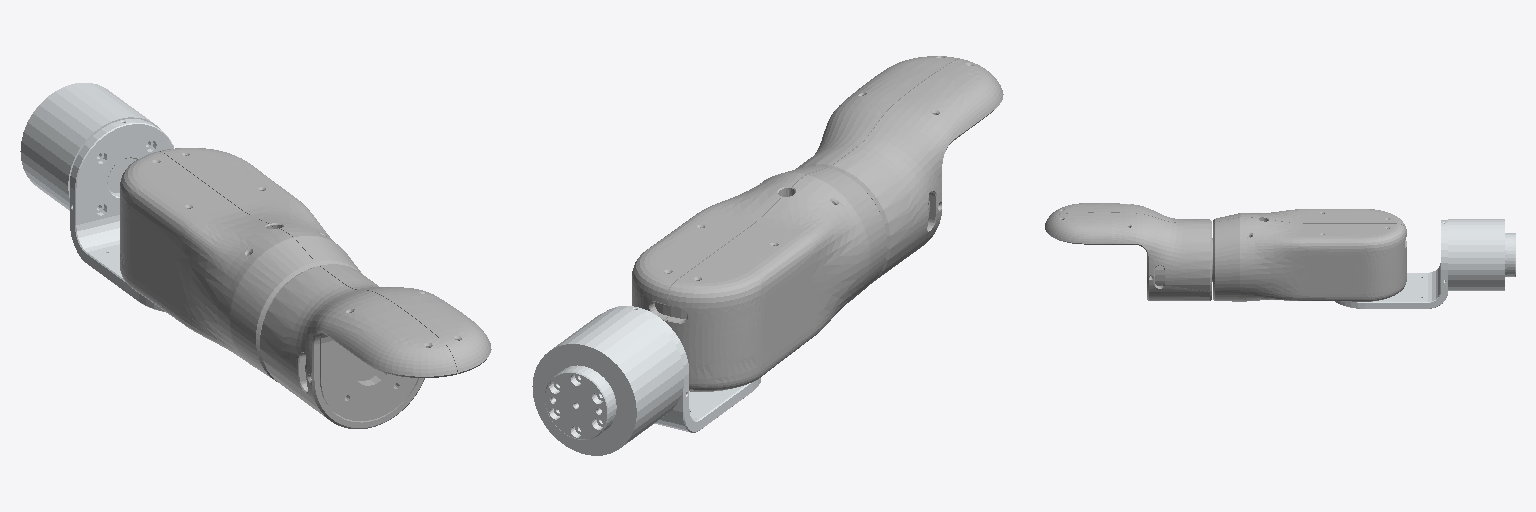
URDF robot description (x1_l_urdf):
<?xml version="1.0" encoding="utf-8"?>
<!-- This URDF was automatically created by SolidWorks to URDF Exporter! Originally created by Stephen Brawner (brawner@gmail.com) 
     Commit Version: 1.6.0-4-g7f85cfe  Build Version: 1.6.7995.38578
     For more information, please see http://wiki.ros.org/sw_urdf_exporter -->
<robot
  name="x1_l_urdf">
  <mujoco>
    <compiler meshdir="../../meshes/v3.2/" balanceinertia="true" discardvisual="false" />
  </mujoco>

  <link
    name="base_link-L">
    <inertial>
      <origin
        xyz="0.000159939440822284 -6.20605455741537E-07 0.0304553601466284"
        rpy="0 0 0" />
      <mass
        value="0.472235089167281" />
      <inertia
        ixx="0.000272166948190831"
        ixy="-4.20107335007513E-08"
        ixz="-2.63102389036083E-06"
        iyy="0.000257572811141141"
        iyz="2.99310496958811E-07"
        izz="0.000367714560088986" />
    </inertial>
    <visual>
      <origin
        xyz="0 0 0"
        rpy="0 0 0" />
      <geometry>
        <mesh
          filename="package://woan_description/meshes/v3.2/base_link-L.STL" />
      </geometry>
      <material
        name="">
        <color
          rgba="0.752941176470588 0.752941176470588 0.752941176470588 1" />
      </material>
    </visual>
    <collision>
      <origin
        xyz="0 0 0"
        rpy="0 0 0" />
      <geometry>
        <mesh
          filename="package://woan_description/meshes/v3.2/base_link-L.STL" />
      </geometry>
    </collision>
  </link>
  <link
    name="Link1-l">
    <inertial>
      <origin
        xyz="-0.00885278318247 -0.000280590563195875 0.0670633884885824"
        rpy="0 0 0" />
      <mass
        value="0.397204280978561" />
      <inertia
        ixx="0.000370077014764152"
        ixy="-1.06759278545413E-06"
        ixz="4.91266150882398E-05"
        iyy="0.000386592571747438"
        iyz="2.22018592880807E-09"
        izz="0.000177520078050015" />
    </inertial>
    <visual>
      <origin
        xyz="0 0 0"
        rpy="0 0 0" />
      <geometry>
        <mesh
          filename="package://woan_description/meshes/v3.2/Link1-l.STL" />
      </geometry>
      <material
        name="">
        <color
          rgba="0.752941176470588 0.752941176470588 0.752941176470588 1" />
      </material>
    </visual>
    <collision>
      <origin
        xyz="0 0 0"
        rpy="0 0 0" />
      <geometry>
        <mesh
          filename="package://woan_description/meshes/v3.2/Link1-l.STL" />
      </geometry>
    </collision>
  </link>
  <joint
    name="joint1-x1_l"
    type="revolute">
    <origin
      xyz="0 0 0.0585"
      rpy="0 0 0" />
    <parent
      link="base_link-L" />
    <child
      link="Link1-l" />
    <axis
      xyz="0 0 1" />
    <limit
      lower="-3.14"
      upper="1.05"
      effort="0"
      velocity="0" />
  </joint>
  <link
    name="Link2-l">
    <inertial>
      <origin
        xyz="0.0601388137817383 -1.86398052730574E-05 -0.019281686420663"
        rpy="0 0 0" />
      <mass
        value="0.290860547999766" />
      <inertia
        ixx="0.00014754181557396"
        ixy="3.03151105615973E-07"
        ixz="5.20878530557926E-05"
        iyy="0.00023919293547515"
        iyz="-2.5182001641771E-07"
        izz="0.000208737092315752" />
    </inertial>
    <visual>
      <origin
        xyz="0 0 0"
        rpy="0 0 0" />
      <geometry>
        <mesh
          filename="package://woan_description/meshes/v3.2/Link2-l.STL" />
      </geometry>
      <material
        name="">
        <color
          rgba="0.752941176470588 0.752941176470588 0.752941176470588 1" />
      </material>
    </visual>
    <collision>
      <origin
        xyz="0 0 0"
        rpy="0 0 0" />
      <geometry>
        <mesh
          filename="package://woan_description/meshes/v3.2/Link2-l.STL" />
      </geometry>
    </collision>
  </link>
  <joint
    name="joint2-x1_l"
    type="revolute">
    <origin
      xyz="0.028 0 0.09945"
      rpy="1.5708 0 1.5708" />
    <parent
      link="Link1-l" />
    <child
      link="Link2-l" />
    <axis
      xyz="0 0 1" />
    <limit
      lower="-0.44"
      upper="3.58"
      effort="0"
      velocity="0" />
  </joint>
  <link
    name="Link3-l">
    <inertial>
      <origin
        xyz="-1.61505122436794E-05 -0.00859970552055969 0.0847583668384367"
        rpy="0 0 0" />
      <mass
        value="0.39641872400927" />
      <inertia
        ixx="0.000614875795560134"
        ixy="-4.44038884426051E-07"
        ixz="6.08349306821247E-07"
        iyy="0.000578190690141136"
        iyz="8.65425659200028E-05"
        izz="0.00019076387100279" />
    </inertial>
    <visual>
      <origin
        xyz="0 0 0"
        rpy="0 0 0" />
      <geometry>
        <mesh
          filename="package://woan_description/meshes/v3.2/Link3-l.STL" />
      </geometry>
      <material
        name="">
        <color
          rgba="0.752941176470588 0.752941176470588 0.752941176470588 1" />
      </material>
    </visual>
    <collision>
      <origin
        xyz="0 0 0"
        rpy="0 0 0" />
      <geometry>
        <mesh
          filename="package://woan_description/meshes/v3.2/Link3-l.STL" />
      </geometry>
    </collision>
  </link>
  <joint
    name="joint3-x1_l"
    type="revolute">
    <origin
      xyz="0.111250000000011 0 -0.028000000000074"
      rpy="0 1.5707963267949 0" />
    <parent
      link="Link2-l" />
    <child
      link="Link3-l" />
    <axis
      xyz="0 0 1" />
    <limit
      lower="-2.76"
      upper="2.76"
      effort="0"
      velocity="0" />
  </joint>
  <link
    name="Link4-l">
    <inertial>
      <origin
        xyz="2.54860992756476E-05 0.0483397572475019 -0.0164084436864034"
        rpy="0 0 0" />
      <mass
        value="0.218783739960793" />
      <inertia
        ixx="0.000193301035438818"
        ixy="-2.90804615982082E-07"
        ixz="2.46776144393015E-07"
        iyy="0.000117493591688138"
        iyz="4.85495669116703E-05"
        izz="0.000165622428779661" />
    </inertial>
    <visual>
      <origin
        xyz="0 0 0"
        rpy="0 0 0" />
      <geometry>
        <mesh
          filename="package://woan_description/meshes/v3.2/Link4-l.STL" />
      </geometry>
      <material
        name="">
        <color
          rgba="0.752941176470588 0.752941176470588 0.752941176470588 1" />
      </material>
    </visual>
    <collision>
      <origin
        xyz="0 0 0"
        rpy="0 0 0" />
      <geometry>
        <mesh
          filename="package://woan_description/meshes/v3.2/Link4-l.STL" />
      </geometry>
    </collision>
  </link>
  <joint
    name="joint4-x1_l"
    type="revolute">
    <origin
      xyz="0 0.028 0.12225"
      rpy="1.5708 0 -3.1416" />
    <parent
      link="Link3-l" />
    <child
      link="Link4-l" />
    <axis
      xyz="0 0 1" />
    <limit
      lower="-1.95"
      upper="1.95"
      effort="0"
      velocity="0" />
  </joint>
  <link
    name="Link5-l">
    <inertial>
      <origin
        xyz="-2.57864961281593E-05 -0.00699359132538363 0.0804176079432036"
        rpy="0 0 0" />
      <mass
        value="0.358803115126829" />
      <inertia
        ixx="0.000550931633053834"
        ixy="-4.3482035753278E-07"
        ixz="6.73567671403311E-07"
        iyy="0.000534869991985782"
        iyz="6.29982135448906E-05"
        izz="0.00015911706004743" />
    </inertial>
    <visual>
      <origin
        xyz="0 0 0"
        rpy="0 0 0" />
      <geometry>
        <mesh
          filename="package://woan_description/meshes/v3.2/Link5-l.STL" />
      </geometry>
      <material
        name="">
        <color
          rgba="0.752941176470588 0.752941176470588 0.752941176470588 1" />
      </material>
    </visual>
    <collision>
      <origin
        xyz="0 0 0"
        rpy="0 0 0" />
      <geometry>
        <mesh
          filename="package://woan_description/meshes/v3.2/Link5-l.STL" />
      </geometry>
    </collision>
  </link>
  <joint
    name="joint5-x1_l"
    type="revolute">
    <origin
      xyz="0 0.101 -0.028"
      rpy="-1.5708 0 0" />
    <parent
      link="Link4-l" />
    <child
      link="Link5-l" />
    <axis
      xyz="0 0 1" />
    <limit
      lower="-2.33"
      upper="2.33"
      effort="0"
      velocity="0" />
  </joint>
  <link
    name="Link6-l">
    <inertial>
      <origin
        xyz="-2.06521456830863E-09 -0.0632193133721481 -0.0181553137446741"
        rpy="0 0 0" />
      <mass
        value="0.222923872256416" />
      <inertia
        ixx="0.000157517631713572"
        ixy="-8.53135386980628E-12"
        ixz="5.64533270202307E-12"
        iyy="0.00010416462395628"
        iyz="-2.98156650200545E-05"
        izz="0.000156074327313393" />
    </inertial>
    <visual>
      <origin
        xyz="0 0 0"
        rpy="0 0 0" />
      <geometry>
        <mesh
          filename="package://woan_description/meshes/v3.2/Link6-l.STL" />
      </geometry>
      <material
        name="">
        <color
          rgba="0.898039215686275 0.917647058823529 0.929411764705882 1" />
      </material>
    </visual>
    <collision>
      <origin
        xyz="0 0 0"
        rpy="0 0 0" />
      <geometry>
        <mesh
          filename="package://woan_description/meshes/v3.2/Link6-l.STL" />
      </geometry>
    </collision>
  </link>
  <joint
    name="joint6-x1_l"
    type="revolute">
    <origin
      xyz="0 0.02375 0.12"
      rpy="-1.5708 0 0" />
    <parent
      link="Link5-l" />
    <child
      link="Link6-l" />
    <axis
      xyz="0 0 1" />
    <limit
      lower="-1.74"
      upper="1.74"
      effort="0"
      velocity="0" />
  </joint>
  <link
    name="link7-l">
    <inertial>
      <origin
        xyz="1.45079398848289E-16 -9.43689570931383E-16 0.00336447801573792"
        rpy="0 0 0" />
      <mass
        value="0.0156367952000345" />
      <inertia
        ixx="1.24351573484494E-06"
        ixy="-5.82850272651702E-21"
        ixz="1.80517962878274E-19"
        iyy="1.2135847017907E-06"
        iyz="-1.93646948573459E-21"
        izz="2.32930826541179E-06" />
    </inertial>
    <visual>
      <origin
        xyz="0 0 0"
        rpy="0 0 0" />
      <geometry>
        <mesh
          filename="package://woan_description/meshes/v3.2/link7-l.STL" />
      </geometry>
      <material
        name="">
        <color
          rgba="0.898039215686275 0.917647058823529 0.929411764705882 1" />
      </material>
    </visual>
    <collision>
      <origin
        xyz="0 0 0"
        rpy="0 0 0" />
      <geometry>
        <mesh
          filename="package://woan_description/meshes/v3.2/link7-l.STL" />
      </geometry>
    </collision>
  </link>
  <joint
    name="joint7-x1_l"
    type="revolute">
    <origin
      xyz="0 -0.112 -0.02825"
      rpy="1.5708 0 0" />
    <parent
      link="Link6-l" />
    <child
      link="link7-l" />
    <axis
      xyz="0 0 1" />
    <limit
      lower="-3.14"
      upper="3.15"
      effort="0"
      velocity="0" />
  </joint>
  <!-- <link
    name="Link-load-l">
    <inertial>
      <origin
        xyz="-1.154248523663E-13 2.76445533131664E-14 -0.0764999999999999"
        rpy="0 0 0" />
      <mass
        value="0.129779192519794" />
      <inertia
        ixx="0.000256411239620983"
        ixy="-8.92108835369458E-23"
        ixz="-3.77084068393609E-16"
        iyy="0.000256411239620983"
        iyz="5.71757067233944E-17"
        izz="6.48895962598972E-06" />
    </inertial>
    <visual>
      <origin
        xyz="0 0 0"
        rpy="0 0 0" />
      <geometry>
        <mesh
          filename="package://woan_description/meshes/v3.2/Link-load-l.STL" />
      </geometry>
      <material
        name="">
        <color
          rgba="0.898039215686275 0.917647058823529 0.929411764705882 1" />
      </material>
    </visual>
    <collision>
      <origin
        xyz="0 0 0"
        rpy="0 0 0" />
      <geometry>
        <mesh
          filename="package://woan_description/meshes/v3.2/Link-load-l.STL" />
      </geometry>
    </collision>
  </link> -->
  <link
    name="left_load" />
  <joint
    name="left_load_joint"
    type="fixed">
    <origin
      xyz="0 0 0.16"
      rpy="0 0 0" />
    <parent
      link="link7-l" />
    <child
      link="left_load" />
    <axis
      xyz="0 0 0" />
  </joint>
</robot>

--- Facts derived from the render (not from the file) ---
3 views of the same robot in one strip: view 1: azimuth 30°, elevation 25°; view 2: azimuth 150°, elevation 25°; view 3: azimuth 270°, elevation 25° (orthographic).
Robot: x1_l_urdf — 9 links, 8 joints (7 revolute, 1 fixed); root link base_link-L; default pose: all joints at 0.
Visible links, largest first — view 1: Link5-l, Link4-l, Link6-l; view 2: Link5-l, Link4-l, Link6-l, link7-l; view 3: Link5-l, Link4-l, Link6-l.
Link boxes in pixels (x1=…): Link5-l: x1=120, y1=148, x2=360, y2=381; Link4-l: x1=260, y1=264, x2=491, y2=428; Link6-l: x1=20, y1=83, x2=173, y2=312; Link5-l: x1=632, y1=166, x2=886, y2=391; Link4-l: x1=796, y1=56, x2=1003, y2=280; Link6-l: x1=532, y1=306, x2=760, y2=455; link7-l: x1=545, y1=366, x2=615, y2=439; Link5-l: x1=1213, y1=209, x2=1406, y2=301; Link4-l: x1=1045, y1=203, x2=1212, y2=300; Link6-l: x1=1335, y1=219, x2=1506, y2=308.
Bounding box of the posed robot: 0.0701 × 0.3722 × 0.0741 m (x, y, z).
4 mesh visuals loaded from 8 distinct referenced files (4 binary STL); not drawn: 4 (reference not matched to a file when rendering).
